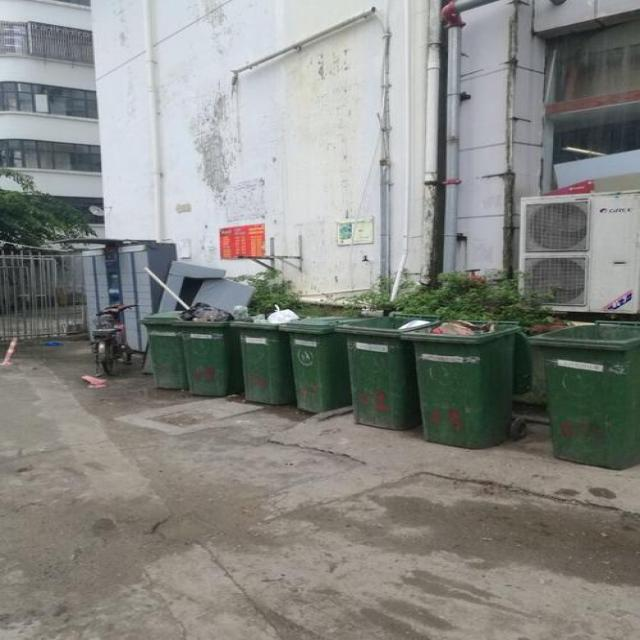garbage_bin: (530, 320, 639, 470), (338, 312, 436, 429), (278, 314, 356, 410), (138, 310, 184, 389)
overflow: (396, 319, 528, 449), (227, 303, 293, 403), (174, 304, 242, 396)
